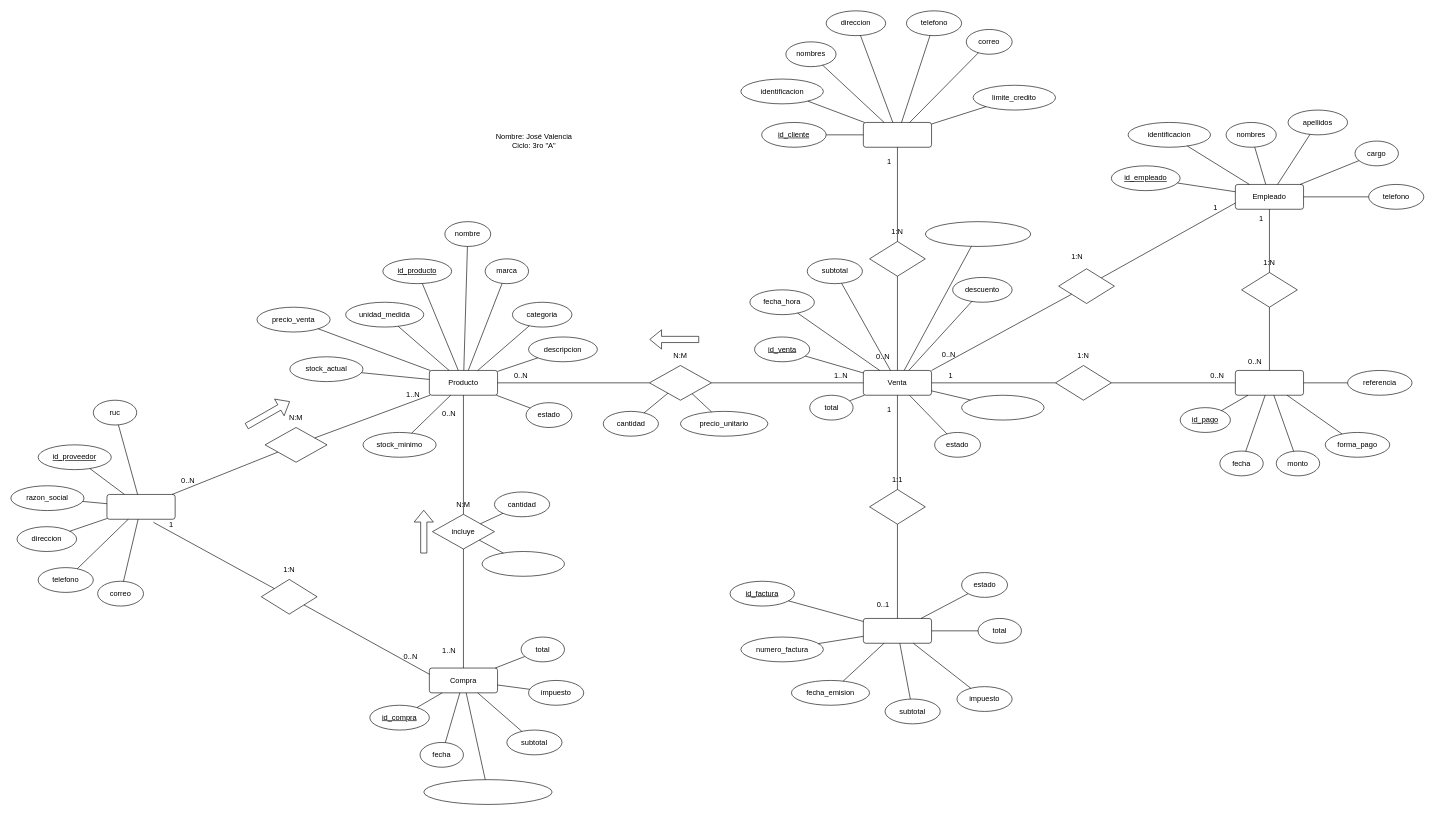
This 1435x815 diagram has some shape labels left out. Each missing label, with the centre of its shape:
Cliente: [897,134]
cobra: [1269,289]
contiene: [680,382]
costo_unitario: [523,563]
Factura: [897,630]
genera: [897,506]
monto_impuesto: [1002,407]
numero_factura_proveedor: [487,791]
Pago: [1269,382]
porcentaje_impuesto: [978,233]
Proveedor: [140,506]
realiza: [897,258]
recibe: [1083,382]
registra: [1086,285]
suministra: [295,444]
tiene: [289,596]
